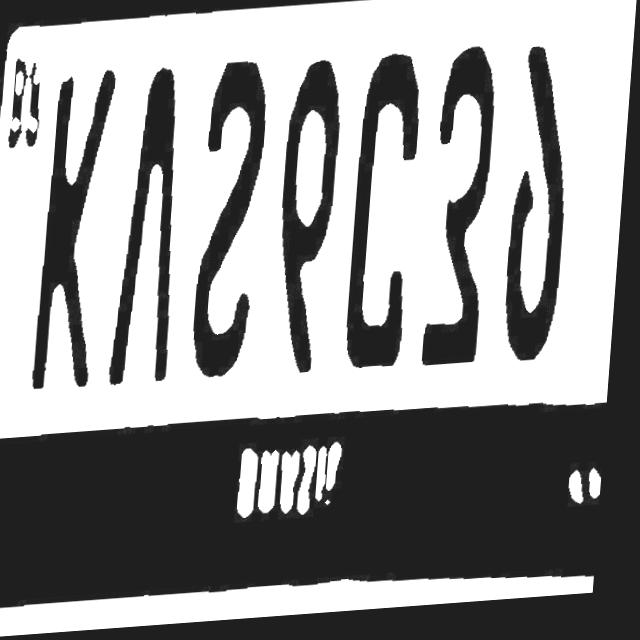3: (418, 52, 509, 391)
6: (266, 72, 347, 400)
9: (501, 37, 591, 388)
c: (334, 58, 435, 392)
k: (15, 81, 114, 410)
s: (175, 73, 271, 408)
v: (93, 86, 181, 404)
